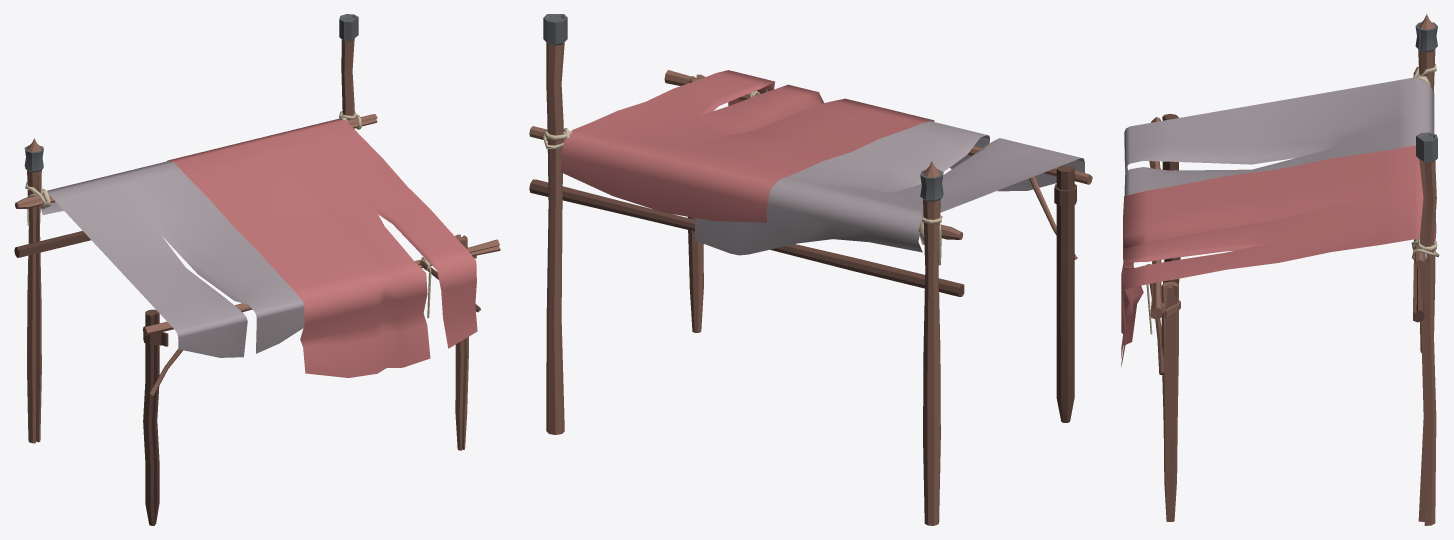
Rendered from SM_Market_Tent_01.fbx.
The picture shows the model from 3 angles, left to right: view 1: azimuth 30°, elevation 25°; view 2: azimuth 150°, elevation 25°; view 3: azimuth 270°, elevation 25°; orthographic projection. The views are drawn at different scales.
Visible parts, largest first — view 1: SM_Market_Tent_01; view 2: SM_Market_Tent_01; view 3: SM_Market_Tent_01.
Part boxes in pixels (box(x1,y1,x2,y2)): SM_Market_Tent_01: box(14, 14, 500, 525); SM_Market_Tent_01: box(529, 14, 1092, 525); SM_Market_Tent_01: box(1121, 14, 1439, 525).
Bounding box in the file's own units: 301 × 274 × 205.
